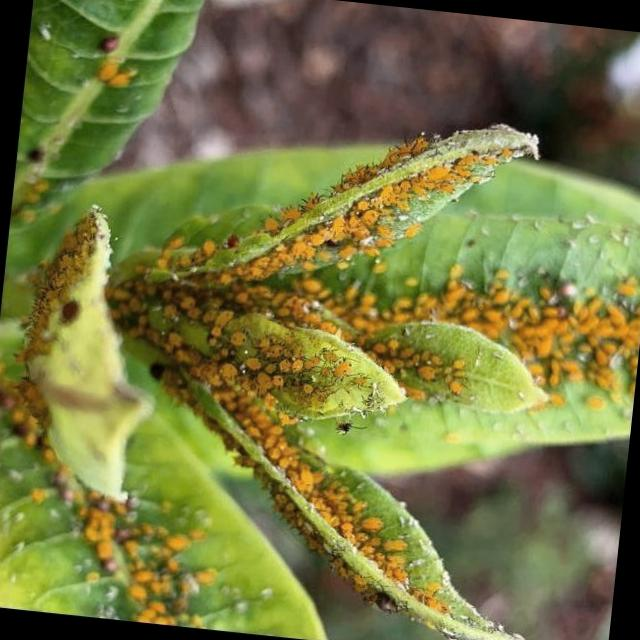aphid: (368, 534, 422, 562), (320, 354, 360, 390)
